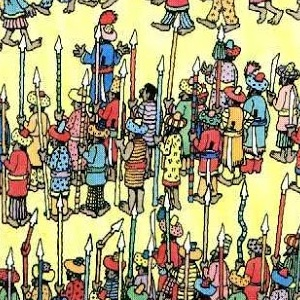Charlie: (263, 109, 300, 198)
Odlaw: (73, 108, 116, 194)
Wenda: (182, 106, 218, 195)
Wizard Whitebeard: (128, 104, 172, 196)
